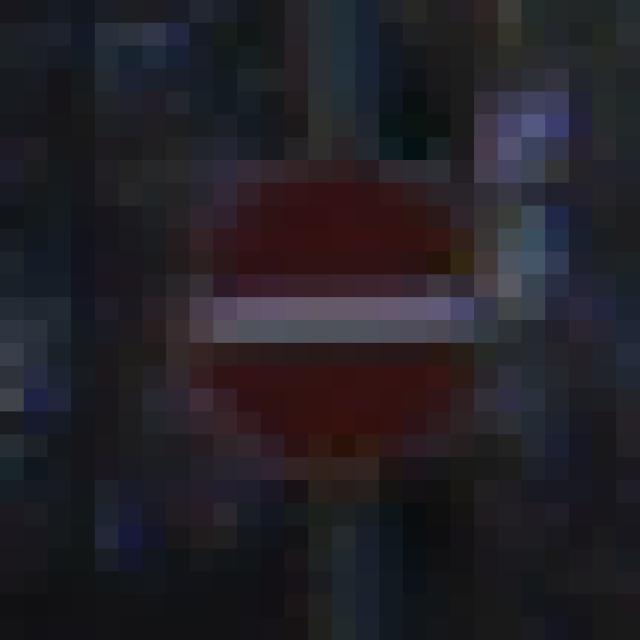No Entry: (143, 138, 523, 527)
